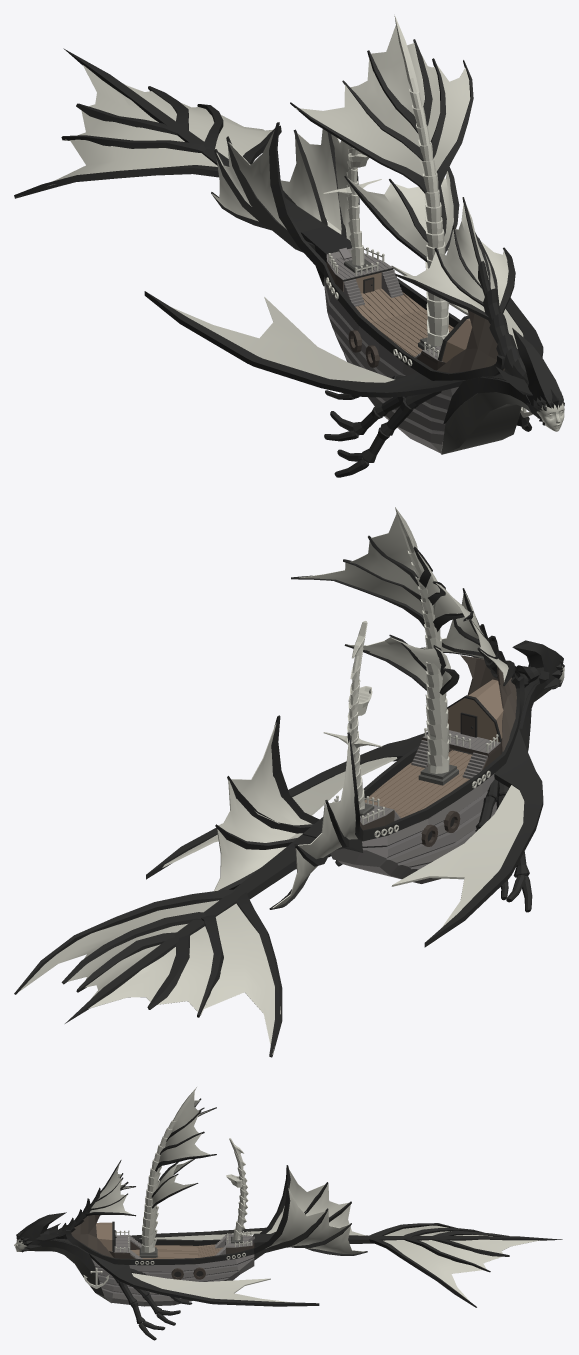
The model's file is ship.fbx.
3 views of the same model, one above another, from view 1: azimuth 30°, elevation 25°; view 2: azimuth 150°, elevation 25°; view 3: azimuth 270°, elevation 25° (orthographic). The views are drawn at different scales.
Parts seen in each view (by area): view 1: Plane.234, Plane.087, Plane.219, Plane.086, Plane.253, Plane.072, Plane.158, Plane.057, Plane.205, Plane.168, Plane.147, Plane.074 (+2 smaller); view 2: Plane.234, Plane.087, Plane.219, Plane.072, Plane.205, Plane.074, Plane.057, Plane.253, Plane.026, Plane.158, Plane.002, Plane.007; view 3: Plane.234, Plane.087, Plane.219, Plane.100, Plane.205, Plane.072, Plane.057, Plane.086, Plane.147, Plane.158, Plane.074, Plane.026 (+1 smaller).
Part boxes in pixels (x1,y1,x2,y2): Plane.234: [14, 25, 564, 425]; Plane.087: [324, 277, 458, 453]; Plane.219: [394, 15, 449, 346]; Plane.086: [441, 392, 539, 454]; Plane.253: [324, 375, 441, 477]; Plane.072: [355, 288, 453, 356]; Plane.158: [478, 261, 528, 385]; Plane.057: [437, 310, 498, 373]; Plane.205: [323, 146, 381, 265]; Plane.168: [301, 226, 381, 293]; Plane.147: [443, 376, 530, 423]; Plane.074: [437, 315, 471, 362]; Plane.234: [14, 513, 564, 1057]; Plane.087: [330, 773, 509, 883]; Plane.219: [395, 507, 449, 773]; Plane.072: [364, 750, 472, 818]; Plane.205: [323, 621, 382, 809]; Plane.074: [447, 679, 503, 742]; Plane.057: [460, 655, 516, 751]; Plane.253: [475, 779, 532, 912]; Plane.026: [374, 762, 490, 846]; Plane.158: [478, 624, 539, 688]; Plane.002: [394, 740, 487, 820]; Plane.007: [422, 730, 500, 754]; Plane.234: [16, 1092, 562, 1307]; Plane.087: [91, 1254, 254, 1306]; Plane.219: [141, 1087, 196, 1252]; Plane.100: [112, 1268, 192, 1340]; Plane.205: [226, 1138, 248, 1240]; Plane.072: [130, 1244, 223, 1259]; Plane.057: [71, 1215, 113, 1257]; Plane.086: [27, 1247, 111, 1303]; Plane.147: [37, 1240, 99, 1282]; Plane.158: [44, 1187, 100, 1239]; Plane.074: [96, 1221, 114, 1251]; Plane.026: [135, 1252, 245, 1279].
Bounding box in the file's own units: 1144 × 1582 × 3462.
